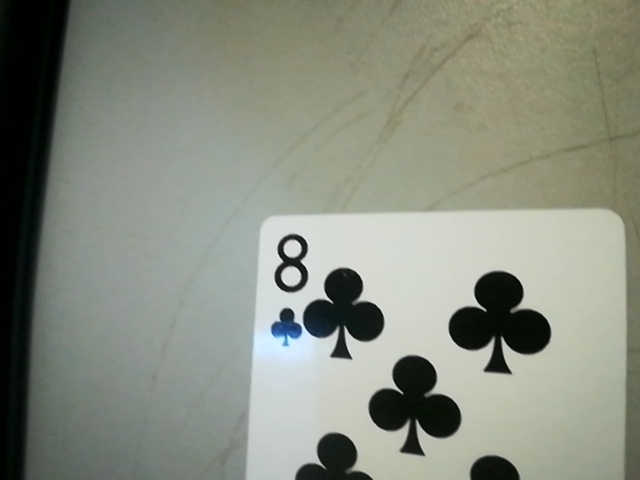mh 8: (257, 225, 315, 347)
